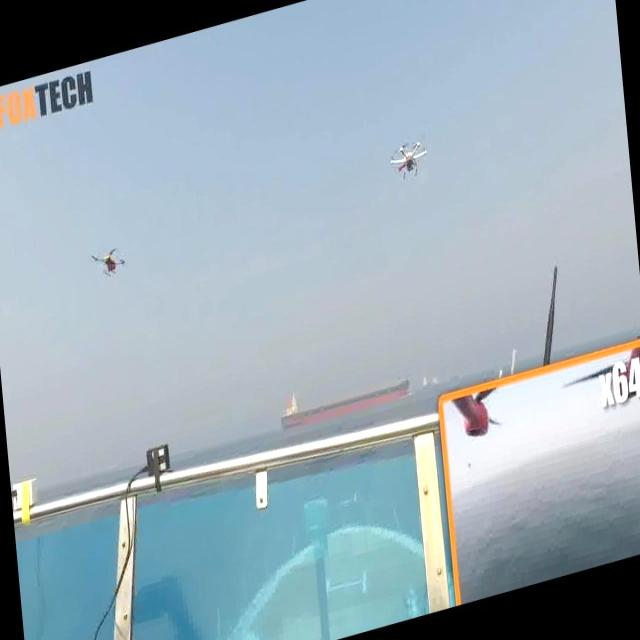drone: (388, 128, 428, 186), (87, 238, 129, 287)
